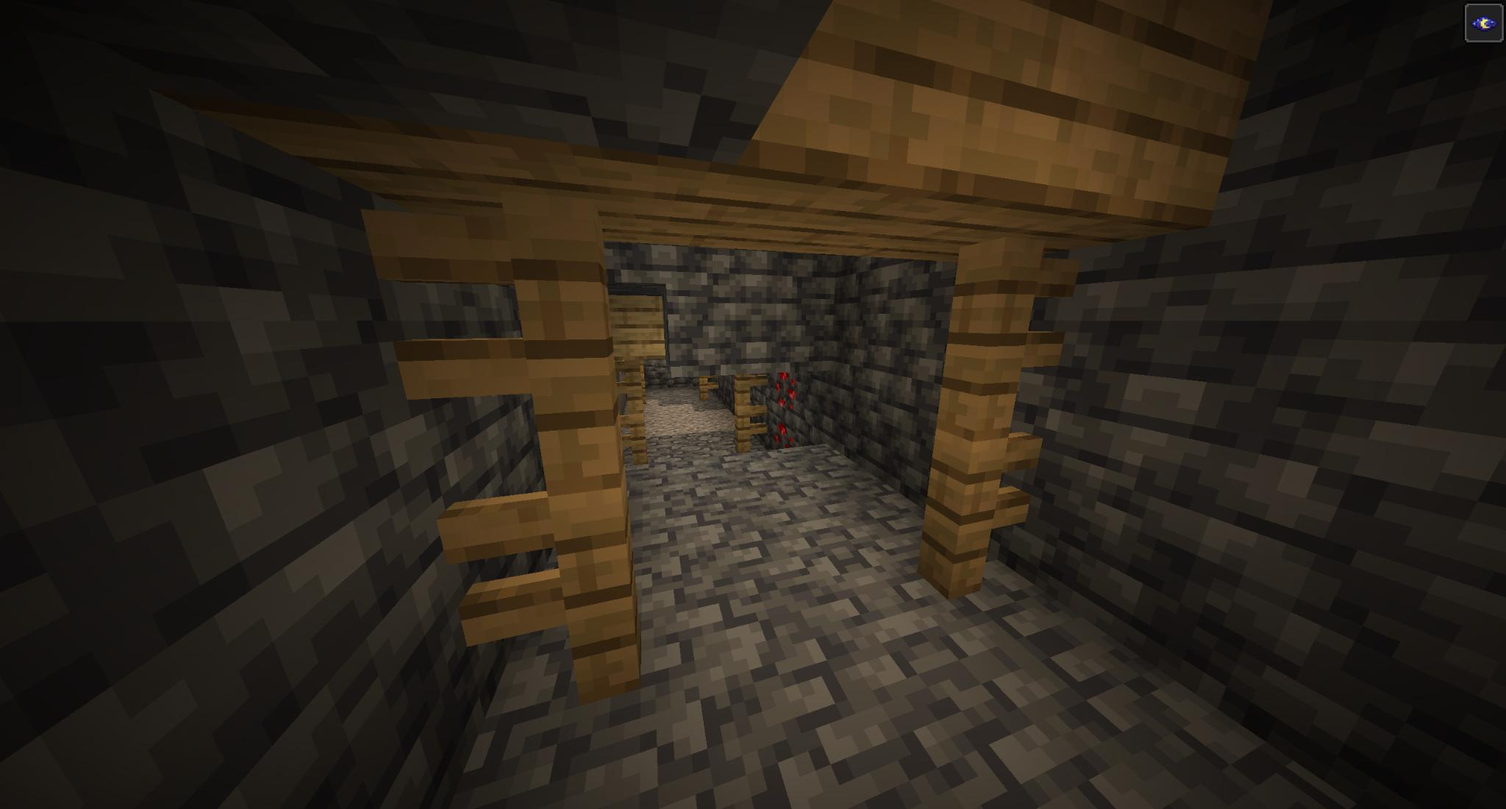redstone ore: (768, 370, 802, 451)
